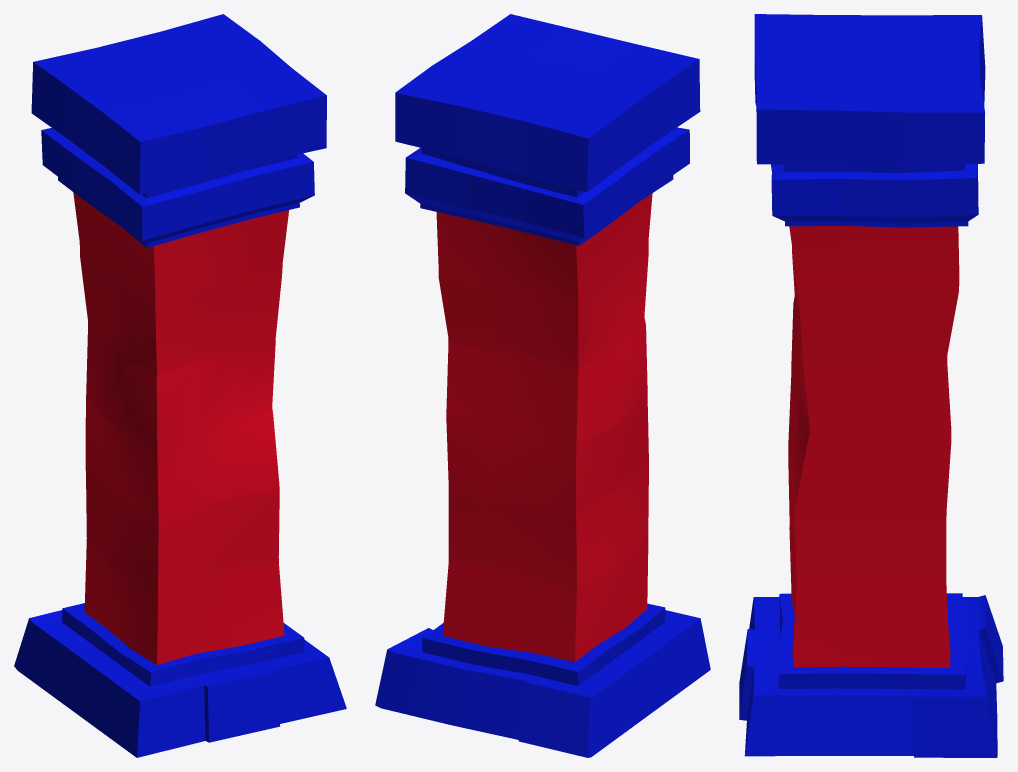
Rendered from Pillar.fbx.
The picture shows the model from 3 angles, left to right: view 1: azimuth 30°, elevation 25°; view 2: azimuth 150°, elevation 25°; view 3: azimuth 270°, elevation 25°; orthographic projection. The views are drawn at different scales.
Parts seen in each view (by area): view 1: piller; view 2: piller; view 3: piller.
Boxes of the visible parts, x1=… form: piller: x1=14, y1=14, x2=346, y2=757; piller: x1=375, y1=14, x2=710, y2=757; piller: x1=739, y1=14, x2=1003, y2=757.
Size of the model in its own units: 222 by 603 by 226.
